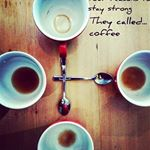cups: (1, 50, 49, 111), (31, 1, 91, 44), (115, 49, 150, 108), (34, 120, 96, 150)
